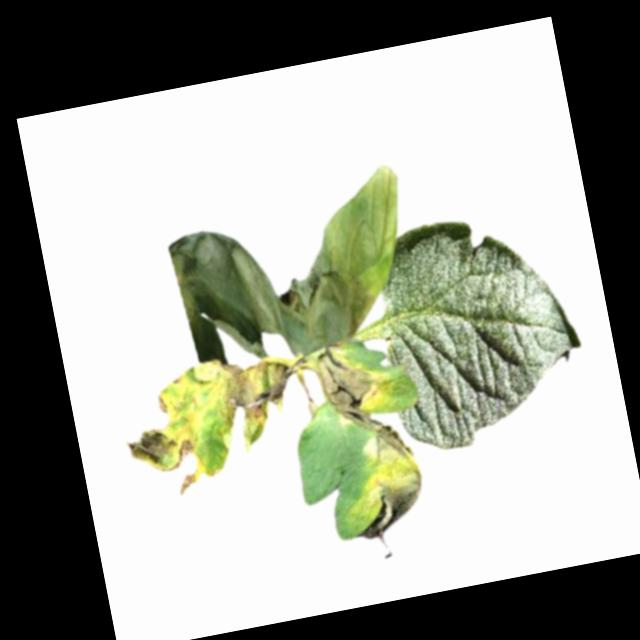Late_blight: (160, 162, 427, 375), (109, 344, 313, 505), (329, 416, 431, 544), (314, 341, 394, 429)
healthy: (366, 199, 597, 458)
